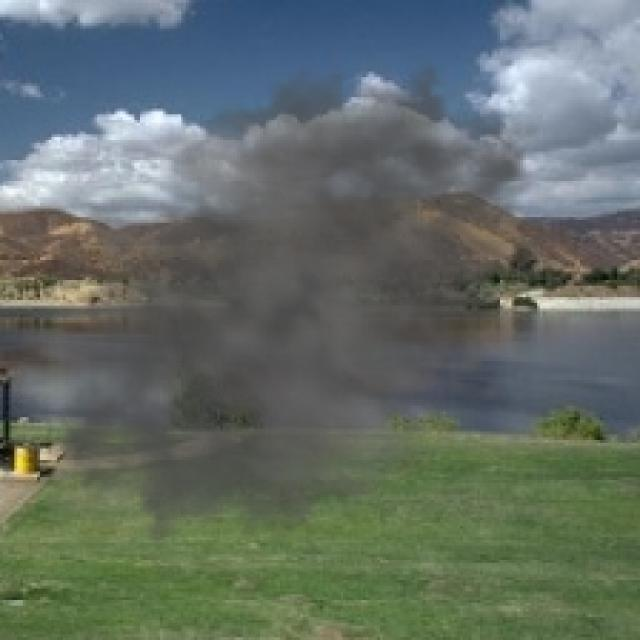smoke: (17, 29, 569, 580)
